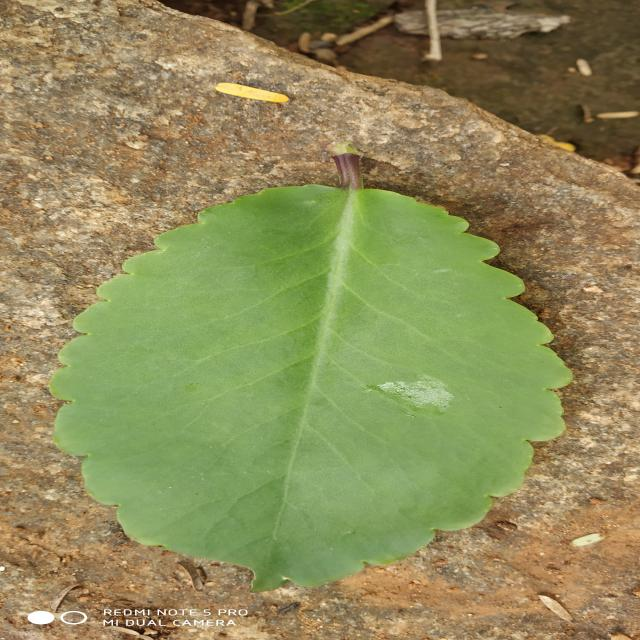spinach: (52, 185, 570, 590)
